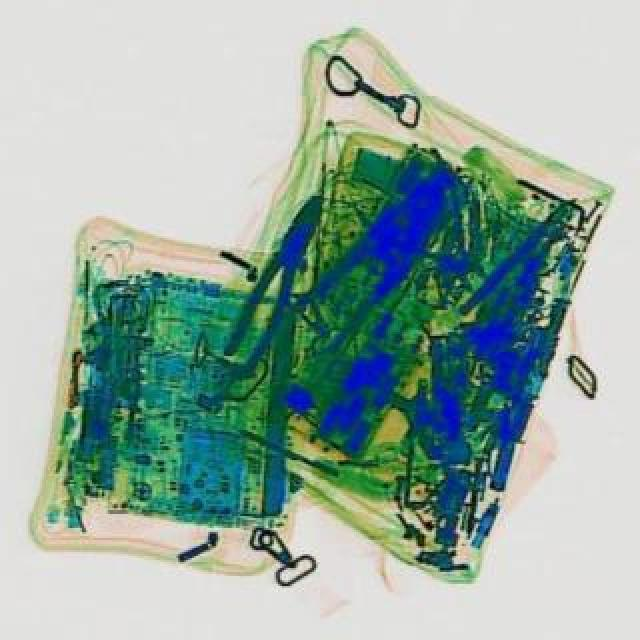wrench: (294, 154, 478, 350), (220, 188, 342, 380)
